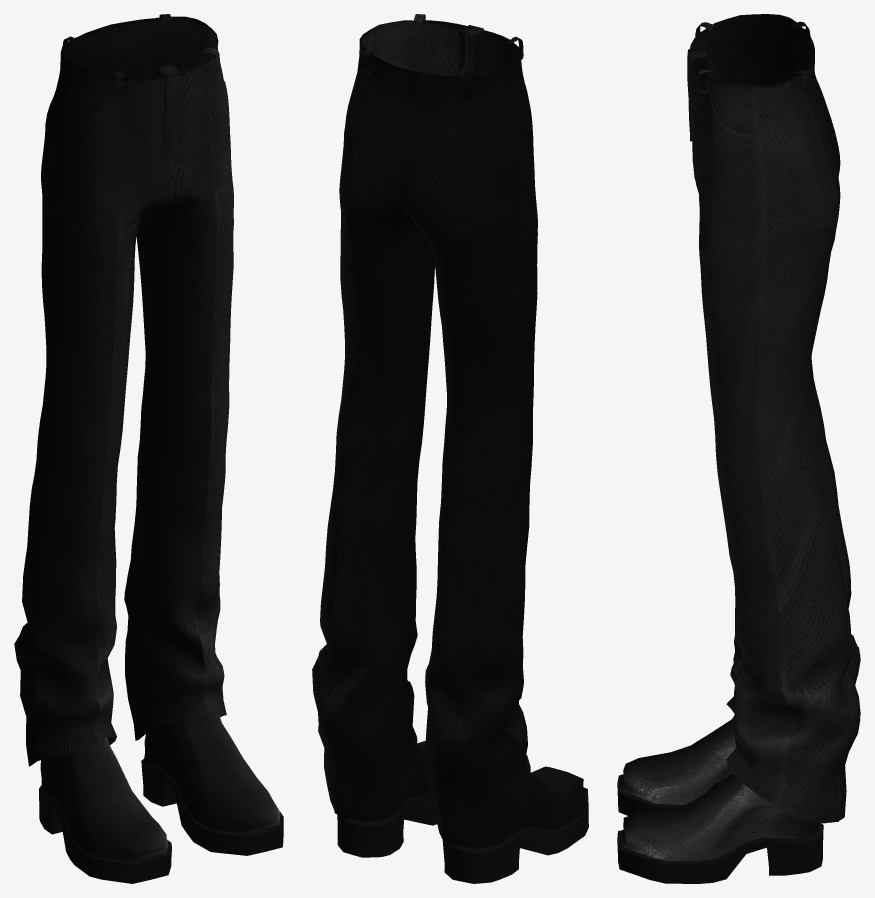
File: whitelower.glb
3 views of the same model, side by side, from view 1: azimuth 30°, elevation 25°; view 2: azimuth 150°, elevation 25°; view 3: azimuth 270°, elevation 25° (orthographic). The views are drawn at different scales.
Parts seen in each view (by area): view 1: Pants; view 2: Pants; view 3: Pants.
Boxes of the visible parts, x1=… form: Pants: x1=14, y1=14, x2=283, y2=883; Pants: x1=312, y1=14, x2=588, y2=883; Pants: x1=617, y1=14, x2=860, y2=883.
Bounding box in the file's own units: 0.2946 × 1.15 × 0.3214.
1 material, 1 textured.
